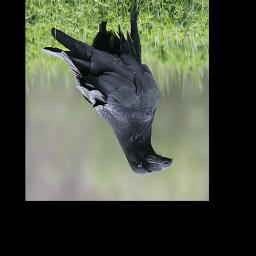Crow: (42, 0, 173, 175)
